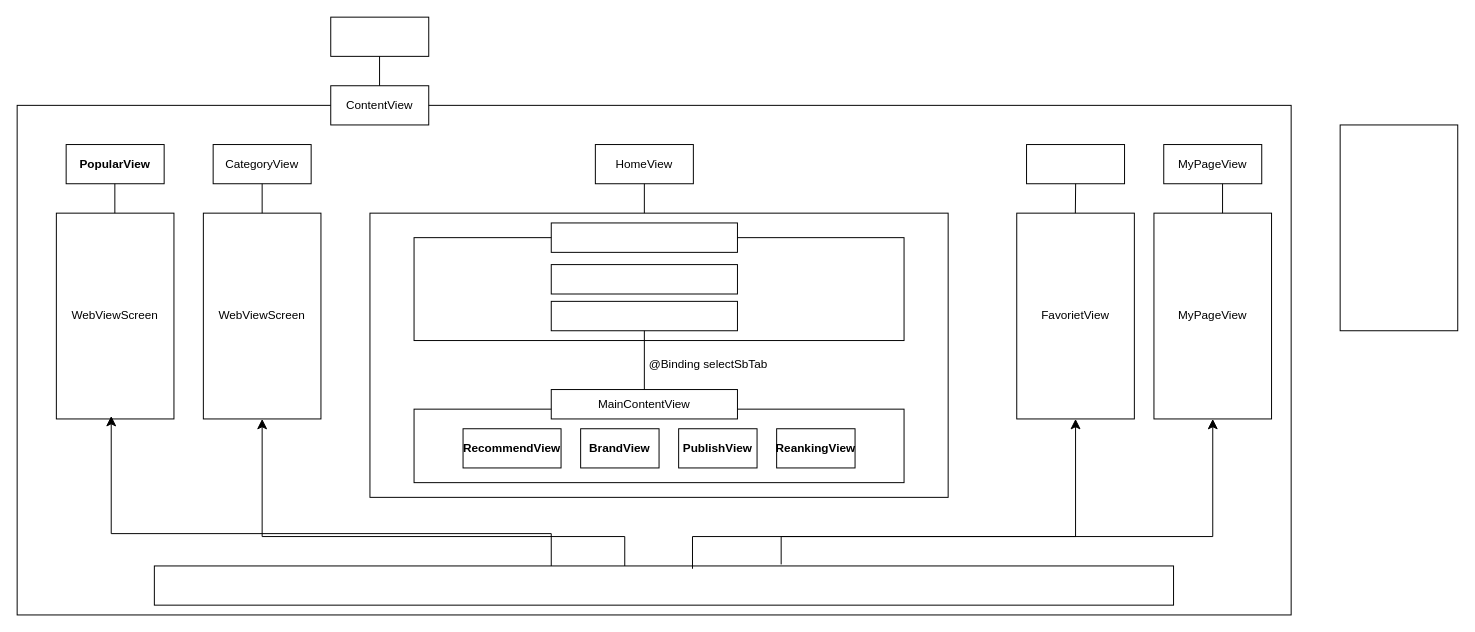
Image size: 1475x632. Some labels were removed from this diagram. The shapes that lost their labels are listed below. From the top down, each one's centre as x and y in pixels, then its label:
point (379, 36): ShoppingApp
point (1075, 164): FavoriteView
point (643, 237): HeaderView
point (1398, 227): SearchView
point (643, 279): SearchActionView
point (643, 315): HeaderNaviView
point (663, 585): BottomTabBarView
